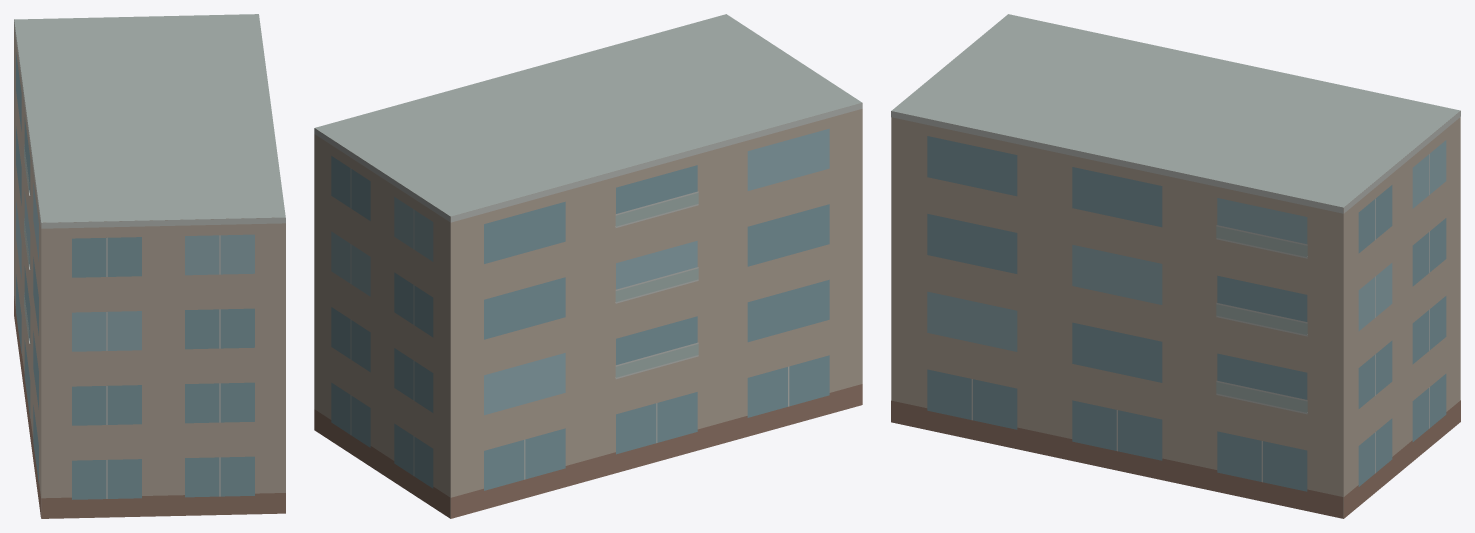
Rendered from survey-upis-32705008.glb.
3 views of the same model, side by side, from view 1: azimuth 30°, elevation 25°; view 2: azimuth 150°, elevation 25°; view 3: azimuth 270°, elevation 25° (orthographic). The views are drawn at different scales.
Parts seen in each view (by area): view 1: survey-upis-32705008.tmp; view 2: survey-upis-32705008.tmp; view 3: survey-upis-32705008.tmp.
Boxes of the visible parts, x1,y1,x2,y2 form: survey-upis-32705008.tmp: [14, 14, 285, 518]; survey-upis-32705008.tmp: [314, 14, 862, 518]; survey-upis-32705008.tmp: [891, 14, 1460, 518].
Bounding box in the file's own units: 16.28 × 12.2 × 20.24.
